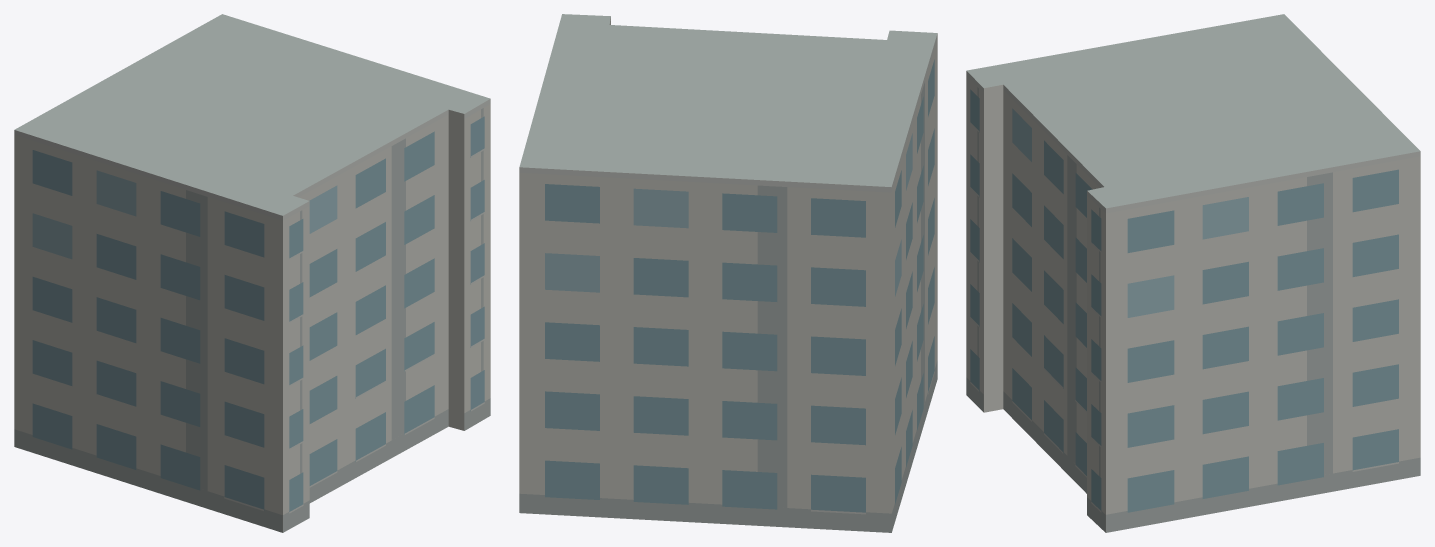
Rendered from survey-upis-32771698.glb.
3 views of the same model, side by side, from view 1: azimuth 30°, elevation 25°; view 2: azimuth 150°, elevation 25°; view 3: azimuth 270°, elevation 25° (orthographic). The views are drawn at different scales.
Visible parts, largest first — view 1: survey-upis-32771698.tmp; view 2: survey-upis-32771698.tmp; view 3: survey-upis-32771698.tmp.
Boxes of the visible parts, x1,y1,x2,y2 form: survey-upis-32771698.tmp: (14,14,490,532); survey-upis-32771698.tmp: (519,14,937,532); survey-upis-32771698.tmp: (966,14,1420,532).
Size of the model in its own units: 19.61 by 15.25 by 19.37.
